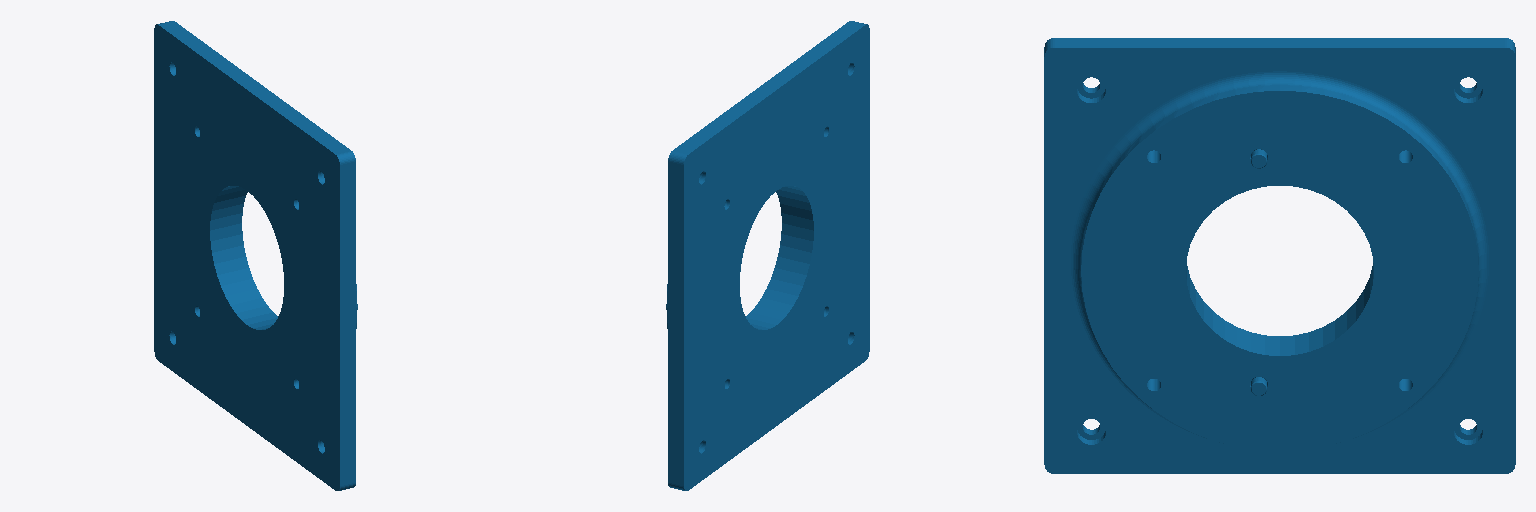
robot.urdf — chargepal_testbed:
<robot name="chargepal_testbed">
  
  
  
  
  
  
  
  
  
  
  
  
  
  
  <link name="world"><inertial><mass value="0.0" /><origin rpy="0 0 0" xyz="0 0 0" /><inertia ixx="0.0" ixy="0.0" ixz="0.0" iyy="0.0" iyz="0.0" izz="0.0" /></inertial></link>
  <joint name="world_to_table" type="fixed">
    <parent link="world" />
    <child link="table" />
    <origin rpy="0 0 1.570795" xyz="0 0 0.406785" />
  </joint>
  <link name="table">
    <inertial>
      <mass value="100.0" />
      <origin rpy="0 0 0" xyz="0 0 0" />
      <inertia ixx="11.451648630172048" ixy="0.0" ixz="0.0" iyy="18.51580213450952" iyz="0.0" izz="18.935852762322536" />
    </inertial>
    <visual>
      <origin rpy="1.570795 0.0 1.570795" xyz="-0.6305000000000001 -0.43299 -0.411985" />
      <geometry>
        <mesh filename="package://chargepal_description/meshes/testbed/table.stl" />
      </geometry>
      <material name="vention_green">
        <color rgba="0.047058823529411764 0.5058823529411764 0.5411764705882353 1" />
      </material>
    </visual>
    <collision>
      <origin rpy="0.0 0.0 0.0" xyz="0.0 0.0 0.0" />
      <geometry>
        <box size="1.249 0.84398 0.81357" />
      </geometry>
    </collision>
  </link>
  <joint name="table_to_baseplate" type="fixed">
    <parent link="table" />
    <child link="base_plate" />
    <origin rpy="0 0 -1.570795" xyz="0.45 -0.24750000000000005 0.418035" />
  </joint>
  <link name="base_plate">
    <inertial>
      <mass value="2.0" />
      <origin rpy="0 0 0" xyz="0 0 0" />
      <inertia ixx="0.00852187159125" ixy="0.0" ixz="0.0" iyy="0.00852187159125" iyz="0.0" izz="0.01687499325" />
    </inertial>
    <visual>
      <origin rpy="1.570795 0.0 1.570795" xyz="-0.1125 -0.1125 -0.01125" />
      <geometry>
        <mesh filename="package://chargepal_description/meshes/testbed/base_plate_ur10e.stl" />
      </geometry>
      <material name="vention_blue">
        <color rgba="0.12549019607843137 0.47058823529411764 0.6666666666666666 1" />
      </material>
    </visual>
    <collision>
      <origin rpy="0.0 0.0 0.0" xyz="0.0 0.0 0.0" />
      <geometry>
        <box size="0.225 0.225 0.0225" />
      </geometry>
    </collision>
  </link>
  <joint name="baseplate_to_arm" type="fixed">
    <parent link="base_plate" />
    <child link="arm_base" />
    <origin rpy="0 0 0" xyz="0 0 0.01125" />
  </joint>
  <link name="arm_base">
    <inertial>
      <mass value="0.0" />
      <origin rpy="0 0 0" xyz="0 0 0" />
      <inertia ixx="0.0" ixy="0.0" ixz="0.0" iyy="0.0" iyz="0.0" izz="0.0" />
    </inertial>
  </link>
  
  <gazebo reference="base_plate">
    <material>Gazebo/Blue</material>
  </gazebo>
  <gazebo reference="table">
    <material>Gazebo/Green</material>
  </gazebo>
  
  <joint name="testbed_to_ur10e" type="fixed">
    <parent link="arm_base" />
    <child link="base_link" />
    <origin rpy="0.0 0.0 1.570795" xyz="0.0 0.0 0.0" />
  </joint>
  
  
  <transmission name="shoulder_pan_trans">
    <type>transmission_interface/SimpleTransmission</type>
    <joint name="shoulder_pan_joint">
      <hardwareInterface>hardware_interface/VelocityJointInterface</hardwareInterface>
    </joint>
    <actuator name="shoulder_pan_motor">
      <mechanicalReduction>1</mechanicalReduction>
    </actuator>
  </transmission>
  <transmission name="shoulder_lift_trans">
    <type>transmission_interface/SimpleTransmission</type>
    <joint name="shoulder_lift_joint">
      <hardwareInterface>hardware_interface/VelocityJointInterface</hardwareInterface>
    </joint>
    <actuator name="shoulder_lift_motor">
      <mechanicalReduction>1</mechanicalReduction>
    </actuator>
  </transmission>
  <transmission name="elbow_trans">
    <type>transmission_interface/SimpleTransmission</type>
    <joint name="elbow_joint">
      <hardwareInterface>hardware_interface/VelocityJointInterface</hardwareInterface>
    </joint>
    <actuator name="elbow_motor">
      <mechanicalReduction>1</mechanicalReduction>
    </actuator>
  </transmission>
  <transmission name="wrist_1_trans">
    <type>transmission_interface/SimpleTransmission</type>
    <joint name="wrist_1_joint">
      <hardwareInterface>hardware_interface/VelocityJointInterface</hardwareInterface>
    </joint>
    <actuator name="wrist_1_motor">
      <mechanicalReduction>1</mechanicalReduction>
    </actuator>
  </transmission>
  <transmission name="wrist_2_trans">
    <type>transmission_interface/SimpleTransmission</type>
    <joint name="wrist_2_joint">
      <hardwareInterface>hardware_interface/VelocityJointInterface</hardwareInterface>
    </joint>
    <actuator name="wrist_2_motor">
      <mechanicalReduction>1</mechanicalReduction>
    </actuator>
  </transmission>
  <transmission name="wrist_3_trans">
    <type>transmission_interface/SimpleTransmission</type>
    <joint name="wrist_3_joint">
      <hardwareInterface>hardware_interface/VelocityJointInterface</hardwareInterface>
    </joint>
    <actuator name="wrist_3_motor">
      <mechanicalReduction>1</mechanicalReduction>
    </actuator>
  </transmission>
  
  <link name="base_link"><inertial><mass value="0.0" /><origin rpy="0 0 0" xyz="0 0 0" /><inertia ixx="0.0" ixy="0.0" ixz="0.0" iyy="0.0" iyz="0.0" izz="0.0" /></inertial></link>
  <link name="base_link_inertia">
    <visual>
      <origin rpy="0 0 3.141592653589793" xyz="0 0 0" />
      <geometry>
        <mesh filename="package://ur_description/meshes/ur10e/visual/base.dae" />
      </geometry>
      <material name="LightGrey">
        <color rgba="0.7 0.7 0.7 1.0" />
      </material>
    </visual>
    <collision>
      <origin rpy="0 0 3.141592653589793" xyz="0 0 0" />
      <geometry>
        <mesh filename="package://ur_description/meshes/ur10e/collision/base.stl" />
      </geometry>
    </collision>
    <inertial>
      <mass value="4.0" />
      <origin rpy="0 0 0" xyz="0 0 0" />
      <inertia ixx="0.0061063308908" ixy="0.0" ixz="0.0" iyy="0.0061063308908" iyz="0.0" izz="0.01125" />
    </inertial>
  </link>
  <link name="shoulder_link">
    <visual>
      <origin rpy="0 0 3.141592653589793" xyz="0 0 0" />
      <geometry>
        <mesh filename="package://ur_description/meshes/ur10e/visual/shoulder.dae" />
      </geometry>
      <material name="LightGrey">
        <color rgba="0.7 0.7 0.7 1.0" />
      </material>
    </visual>
    <collision>
      <origin rpy="0 0 3.141592653589793" xyz="0 0 0" />
      <geometry>
        <mesh filename="package://ur_description/meshes/ur10e/collision/shoulder.stl" />
      </geometry>
    </collision>
    <inertial>
      <mass value="7.778" />
      <origin rpy="0 0 0" xyz="0 0 0" />
      <inertia ixx="0.03147431257693659" ixy="0.0" ixz="0.0" iyy="0.03147431257693659" iyz="0.0" izz="0.021875624999999996" />
    </inertial>
  </link>
  <link name="upper_arm_link">
    <visual>
      <origin rpy="1.5707963267948966 0 -1.5707963267948966" xyz="0 0 0.1762" />
      <geometry>
        <mesh filename="package://ur_description/meshes/ur10e/visual/upperarm.dae" />
      </geometry>
      <material name="LightGrey">
        <color rgba="0.7 0.7 0.7 1.0" />
      </material>
    </visual>
    <collision>
      <origin rpy="1.5707963267948966 0 -1.5707963267948966" xyz="0 0 0.1762" />
      <geometry>
        <mesh filename="package://ur_description/meshes/ur10e/collision/upperarm.stl" />
      </geometry>
    </collision>
    <inertial>
      <mass value="12.93" />
      <origin rpy="0 1.5707963267948966 0" xyz="-0.306 0.0 0.175" />
      <inertia ixx="0.42175380379841093" ixy="0.0" ixz="0.0" iyy="0.42175380379841093" iyz="0.0" izz="0.03636562499999999" />
    </inertial>
  </link>
  <link name="forearm_link">
    <visual>
      <origin rpy="1.5707963267948966 0 -1.5707963267948966" xyz="0 0 0.0393" />
      <geometry>
        <mesh filename="package://ur_description/meshes/ur10e/visual/forearm.dae" />
      </geometry>
      <material name="LightGrey">
        <color rgba="0.7 0.7 0.7 1.0" />
      </material>
    </visual>
    <collision>
      <origin rpy="1.5707963267948966 0 -1.5707963267948966" xyz="0 0 0.0393" />
      <geometry>
        <mesh filename="package://ur_description/meshes/ur10e/collision/forearm.stl" />
      </geometry>
    </collision>
    <inertial>
      <mass value="3.87" />
      <origin rpy="0 1.5707963267948966 0" xyz="-0.285775 0.0 0.0393" />
      <inertia ixx="0.11079302548902206" ixy="0.0" ixz="0.0" iyy="0.11079302548902206" iyz="0.0" izz="0.010884375" />
    </inertial>
  </link>
  <link name="wrist_1_link">
    <visual>
      
      <origin rpy="1.5707963267948966 0 0" xyz="0 0 -0.135" />
      <geometry>
        <mesh filename="package://ur_description/meshes/ur10e/visual/wrist1.dae" />
      </geometry>
      <material name="LightGrey">
        <color rgba="0.7 0.7 0.7 1.0" />
      </material>
    </visual>
    <collision>
      <origin rpy="1.5707963267948966 0 0" xyz="0 0 -0.135" />
      <geometry>
        <mesh filename="package://ur_description/meshes/ur10e/collision/wrist1.stl" />
      </geometry>
    </collision>
    <inertial>
      <mass value="1.96" />
      <origin rpy="0 0 0" xyz="0 0 0" />
      <inertia ixx="0.005108247956699999" ixy="0.0" ixz="0.0" iyy="0.005108247956699999" iyz="0.0" izz="0.005512499999999999" />
    </inertial>
  </link>
  <link name="wrist_2_link">
    <visual>
      <origin rpy="0 0 0" xyz="0 0 -0.12" />
      <geometry>
        <mesh filename="package://ur_description/meshes/ur10e/visual/wrist2.dae" />
      </geometry>
      <material name="LightGrey">
        <color rgba="0.7 0.7 0.7 1.0" />
      </material>
    </visual>
    <collision>
      <origin rpy="0 0 0" xyz="0 0 -0.12" />
      <geometry>
        <mesh filename="package://ur_description/meshes/ur10e/collision/wrist2.stl" />
      </geometry>
    </collision>
    <inertial>
      <mass value="1.96" />
      <origin rpy="0 0 0" xyz="0 0 0" />
      <inertia ixx="0.005108247956699999" ixy="0.0" ixz="0.0" iyy="0.005108247956699999" iyz="0.0" izz="0.005512499999999999" />
    </inertial>
  </link>
  <link name="wrist_3_link">
    <visual>
      <origin rpy="1.5707963267948966 0 0" xyz="0 0 -0.1168" />
      <geometry>
        <mesh filename="package://ur_description/meshes/ur10e/visual/wrist3.dae" />
      </geometry>
      <material name="LightGrey">
        <color rgba="0.7 0.7 0.7 1.0" />
      </material>
    </visual>
    <collision>
      <origin rpy="1.5707963267948966 0 0" xyz="0 0 -0.1168" />
      <geometry>
        <mesh filename="package://ur_description/meshes/ur10e/collision/wrist3.stl" />
      </geometry>
    </collision>
    <inertial>
      <mass value="0.202" />
      <origin rpy="0 0 0" xyz="0.0 0.0 -0.025" />
      <inertia ixx="0.00014434577559500002" ixy="0.0" ixz="0.0" iyy="0.00014434577559500002" iyz="0.0" izz="0.00020452500000000002" />
    </inertial>
  </link>
  
  <joint name="base_link-base_link_inertia" type="fixed">
    <parent link="base_link" />
    <child link="base_link_inertia" />
    
    <origin rpy="0 0 3.141592653589793" xyz="0 0 0" />
  </joint>
  <joint name="shoulder_pan_joint" type="revolute">
    <parent link="base_link_inertia" />
    <child link="shoulder_link" />
    <origin rpy="0 0 0" xyz="0 0 0.1807" />
    <axis xyz="0 0 1" />
    <limit effort="330.0" lower="-3.141592653589793" upper="3.141592653589793" velocity="3.141592653589793" />
    <dynamics damping="0" friction="0" />
  </joint>
  <joint name="shoulder_lift_joint" type="revolute">
    <parent link="shoulder_link" />
    <child link="upper_arm_link" />
    <origin rpy="1.570796327 0 0" xyz="0 0 0" />
    <axis xyz="0 0 1" />
    <limit effort="330.0" lower="-3.141592653589793" upper="0.0" velocity="3.141592653589793" />
    <dynamics damping="0" friction="0" />
  </joint>
  <joint name="elbow_joint" type="revolute">
    <parent link="upper_arm_link" />
    <child link="forearm_link" />
    <origin rpy="0 0 0" xyz="-0.6127 0 0" />
    <axis xyz="0 0 1" />
    <limit effort="150.0" lower="-3.141592653589793" upper="0.0" velocity="3.141592653589793" />
    <dynamics damping="0" friction="0" />
  </joint>
  <joint name="wrist_1_joint" type="revolute">
    <parent link="forearm_link" />
    <child link="wrist_1_link" />
    <origin rpy="0 0 0" xyz="-0.57155 0 0.17415" />
    <axis xyz="0 0 1" />
    <limit effort="56.0" lower="-3.141592653589793" upper="3.141592653589793" velocity="3.141592653589793" />
    <dynamics damping="0" friction="0" />
  </joint>
  <joint name="wrist_2_joint" type="revolute">
    <parent link="wrist_1_link" />
    <child link="wrist_2_link" />
    <origin rpy="1.570796327 0 0" xyz="0 -0.11985 -2.458164590756244e-11" />
    <axis xyz="0 0 1" />
    <limit effort="56.0" lower="-3.141592653589793" upper="3.141592653589793" velocity="3.141592653589793" />
    <dynamics damping="0" friction="0" />
  </joint>
  <joint name="wrist_3_joint" type="revolute">
    <parent link="wrist_2_link" />
    <child link="wrist_3_link" />
    <origin rpy="1.570796326589793 3.141592653589793 3.141592653589793" xyz="0 0.11655 -2.390480459346185e-11" />
    <axis xyz="0 0 1" />
    <limit effort="56.0" lower="-0.7853981633974483" upper="5.497787143782138" velocity="3.141592653589793" />
    <dynamics damping="0" friction="0" />
  </joint>
  
  <link name="base"><inertial><mass value="0.0" /><origin rpy="0 0 0" xyz="0 0 0" /><inertia ixx="0.0" ixy="0.0" ixz="0.0" iyy="0.0" iyz="0.0" izz="0.0" /></inertial></link>
  <joint name="base_link-base_fixed_joint" type="fixed">
    
    <origin rpy="0 0 3.141592653589793" xyz="0 0 0" />
    <parent link="base_link" />
    <child link="base" />
  </joint>
  
  <link name="flange"><inertial><mass value="0.0" /><origin rpy="0 0 0" xyz="0 0 0" /><inertia ixx="0.0" ixy="0.0" ixz="0.0" iyy="0.0" iyz="0.0" izz="0.0" /></inertial></link>
  <joint name="wrist_3-flange" type="fixed">
    <parent link="wrist_3_link" />
    <child link="flange" />
    <origin rpy="0 -1.5707963267948966 -1.5707963267948966" xyz="0 0 0" />
  </joint>
  
  <link name="tool0"><inertial><mass value="0.0" /><origin rpy="0 0 0" xyz="0 0 0" /><inertia ixx="0.0" ixy="0.0" ixz="0.0" iyy="0.0" iyz="0.0" izz="0.0" /></inertial></link>
  <joint name="flange-tool0" type="fixed">
    
    <origin rpy="1.5707963267948966 0 1.5707963267948966" xyz="0 0 0" />
    <parent link="flange" />
    <child link="tool0" />
  </joint>
  
  <gazebo reference="shoulder_link">
    <selfCollide>true</selfCollide>
  </gazebo>
  <gazebo reference="upper_arm_link">
    <selfCollide>true</selfCollide>
  </gazebo>
  <gazebo reference="forearm_link">
    <selfCollide>true</selfCollide>
  </gazebo>
  <gazebo reference="wrist_1_link">
    <selfCollide>true</selfCollide>
  </gazebo>
  <gazebo reference="wrist_3_link">
    <selfCollide>true</selfCollide>
  </gazebo>
  <gazebo reference="wrist_2_link">
    <selfCollide>true</selfCollide>
  </gazebo>
  <gazebo reference="ee_link">
    <selfCollide>true</selfCollide>
  </gazebo>
  <link name="ft_sensor_mounting">
    <inertial>
      <origin rpy="0 0 0" xyz="-9.4473E-05 0.00063177 0.010132" />
      <mass value="0.14931" />
      <inertia ixx="4.8806E-05" ixy="3.2223E-08" ixz="-1.0415E-07" iyy="5.5473E-05" iyz="1.3709E-07" izz="8.9696E-05" />
    </inertial>
    <visual>
      <origin rpy="0 0 0" xyz="0 0 0" />
      <geometry>
        <mesh filename="package://rokubimini_description/meshes/BFT_SENS_M8/mounting.STL" />
      </geometry>
      <material name="">
        <color rgba="0.6902 0.61176 0.52941 1" />
      </material>
    </visual>
    <collision>
      <origin rpy="0 0 0" xyz="0 0 0.011" />
      <geometry>
        <cylinder length="0.028" radius="0.035" />
      </geometry>
    </collision>
    <collision>
      <origin rpy="1.57 0 0" xyz="0 0.051 0.0115" />
      <geometry>
        <cylinder length="0.032" radius="0.0065" />
      </geometry>
    </collision>
    <collision>
      <origin rpy="0 0 0" xyz="0 0 0.03" />
      <geometry>
        <cylinder length="0.01" radius="0.0315" />
      </geometry>
    </collision>
  </link>
  <link name="ft_sensor_imu">
    <inertial>
      <origin rpy="0 0 0" xyz="-7.28164825396643E-05 1.54951151759942E-05 -0.00279059266096084" />
      <mass value="0.00841533584597687" />
      <inertia ixx="4.36835040253875E-07" ixy="-6.98609475825204E-11" ixz="-6.08397676352913E-15" iyy="4.41035649008913E-07" iyz="1.1033148379698E-11" izz="8.74962095262403E-07" />
    </inertial>
  </link>
  <joint name="mounting_to_imu" type="fixed">
    <origin rpy="0 0 0" xyz="0 0 0.0093" />
    <parent link="ft_sensor_mounting" />
    <child link="ft_sensor_imu" />
    <axis xyz="0 0 0" />
  </joint>
  <link name="ft_sensor_wrench">
    <inertial>
      <origin rpy="0 0 0" xyz="-1.9753E-07 0.00017443 -0.0070758" />
      <mass value="0.081117" />
      <inertia ixx="2.1858E-05" ixy="-1.9153E-12" ixz="3.7592E-11" iyy="2.2215E-05" iyz="-4.9937E-08" izz="4.0048E-05" />
    </inertial>
  </link>
  <joint name="mounting_to_wrench" type="fixed">
    <origin rpy="0 0 0" xyz="0 0 0.035" />
    <parent link="ft_sensor_mounting" />
    <child link="ft_sensor_wrench" />
    <axis xyz="0 0 0" />
  </joint>
  <link name="ft_sensor_mech1">
    <inertial><mass value="0.0" /><origin rpy="0 0 0" xyz="0 0 0" /><inertia ixx="0.0" ixy="0.0" ixz="0.0" iyy="0.0" iyz="0.0" izz="0.0" /></inertial></link>
  <joint name="mounting_to_mech1" type="fixed">
    <origin rpy="1.5625 0 -1.5708" xyz="-0.032879 0 0.0105" />
    <parent link="ft_sensor_mounting" />
    <child link="ft_sensor_mech1" />
    <axis xyz="0 0 0" />
  </joint>
  <link name="ft_sensor_mech2">
    <inertial><mass value="0.0" /><origin rpy="0 0 0" xyz="0 0 0" /><inertia ixx="0.0" ixy="0.0" ixz="0.0" iyy="0.0" iyz="0.0" izz="0.0" /></inertial></link>
  <joint name="mounting_to_mech2" type="fixed">
    <origin rpy="1.5708 0 0" xyz="0 -0.032879 0.0105" />
    <parent link="ft_sensor_mounting" />
    <child link="ft_sensor_mech2" />
    <axis xyz="0 0 0" />
  </joint>
  <link name="ft_sensor_mech3">
    <inertial><mass value="0.0" /><origin rpy="0 0 0" xyz="0 0 0" /><inertia ixx="0.0" ixy="0.0" ixz="0.0" iyy="0.0" iyz="0.0" izz="0.0" /></inertial></link>
  <joint name="mounting_to_mech3" type="fixed">
    <origin rpy="1.5708 0 1.5708" xyz="0.032879 0 0.0105" />
    <parent link="ft_sensor_mounting" />
    <child link="ft_sensor_mech3" />
    <axis xyz="0 0 0" />
  </joint>
  <joint name="ur_to_sensor" type="fixed">
    <parent link="tool0" />
    <child link="ft_sensor_mounting" />
    <origin rpy="0.0 0.0 0.0" xyz="0.0 0.0 0.0" />
  </joint>
  <gazebo>
    <plugin filename="libgazebo_ros_control.so" name="gazebo_ros_control">
      <controlPeriod>0.001</controlPeriod>
      <legacyModeNS>false</legacyModeNS>
    </plugin>
  </gazebo>
</robot>

--- Facts derived from the render (not from the file) ---
3 views of the same robot in one strip: view 1: azimuth 30°, elevation 25°; view 2: azimuth 150°, elevation 25°; view 3: azimuth 270°, elevation 25° (orthographic).
Model chargepal_testbed with 21 links and 20 joints (6 revolute, 14 fixed), rooted at world, posed all joints at 0.
Visible links, largest first — view 1: base_plate; view 2: base_plate; view 3: base_plate.
Boxes of the visible links, x1=… form: base_plate: x1=154, y1=21, x2=357, y2=490; base_plate: x1=666, y1=21, x2=869, y2=490; base_plate: x1=1044, y1=38, x2=1515, y2=473.
Bounding box of the posed robot: 0.0275 × 0.225 × 0.225 m (x, y, z).
1 mesh visuals loaded from 10 distinct referenced files (1 binary STL); not drawn: 9 (reference not matched to a file when rendering).